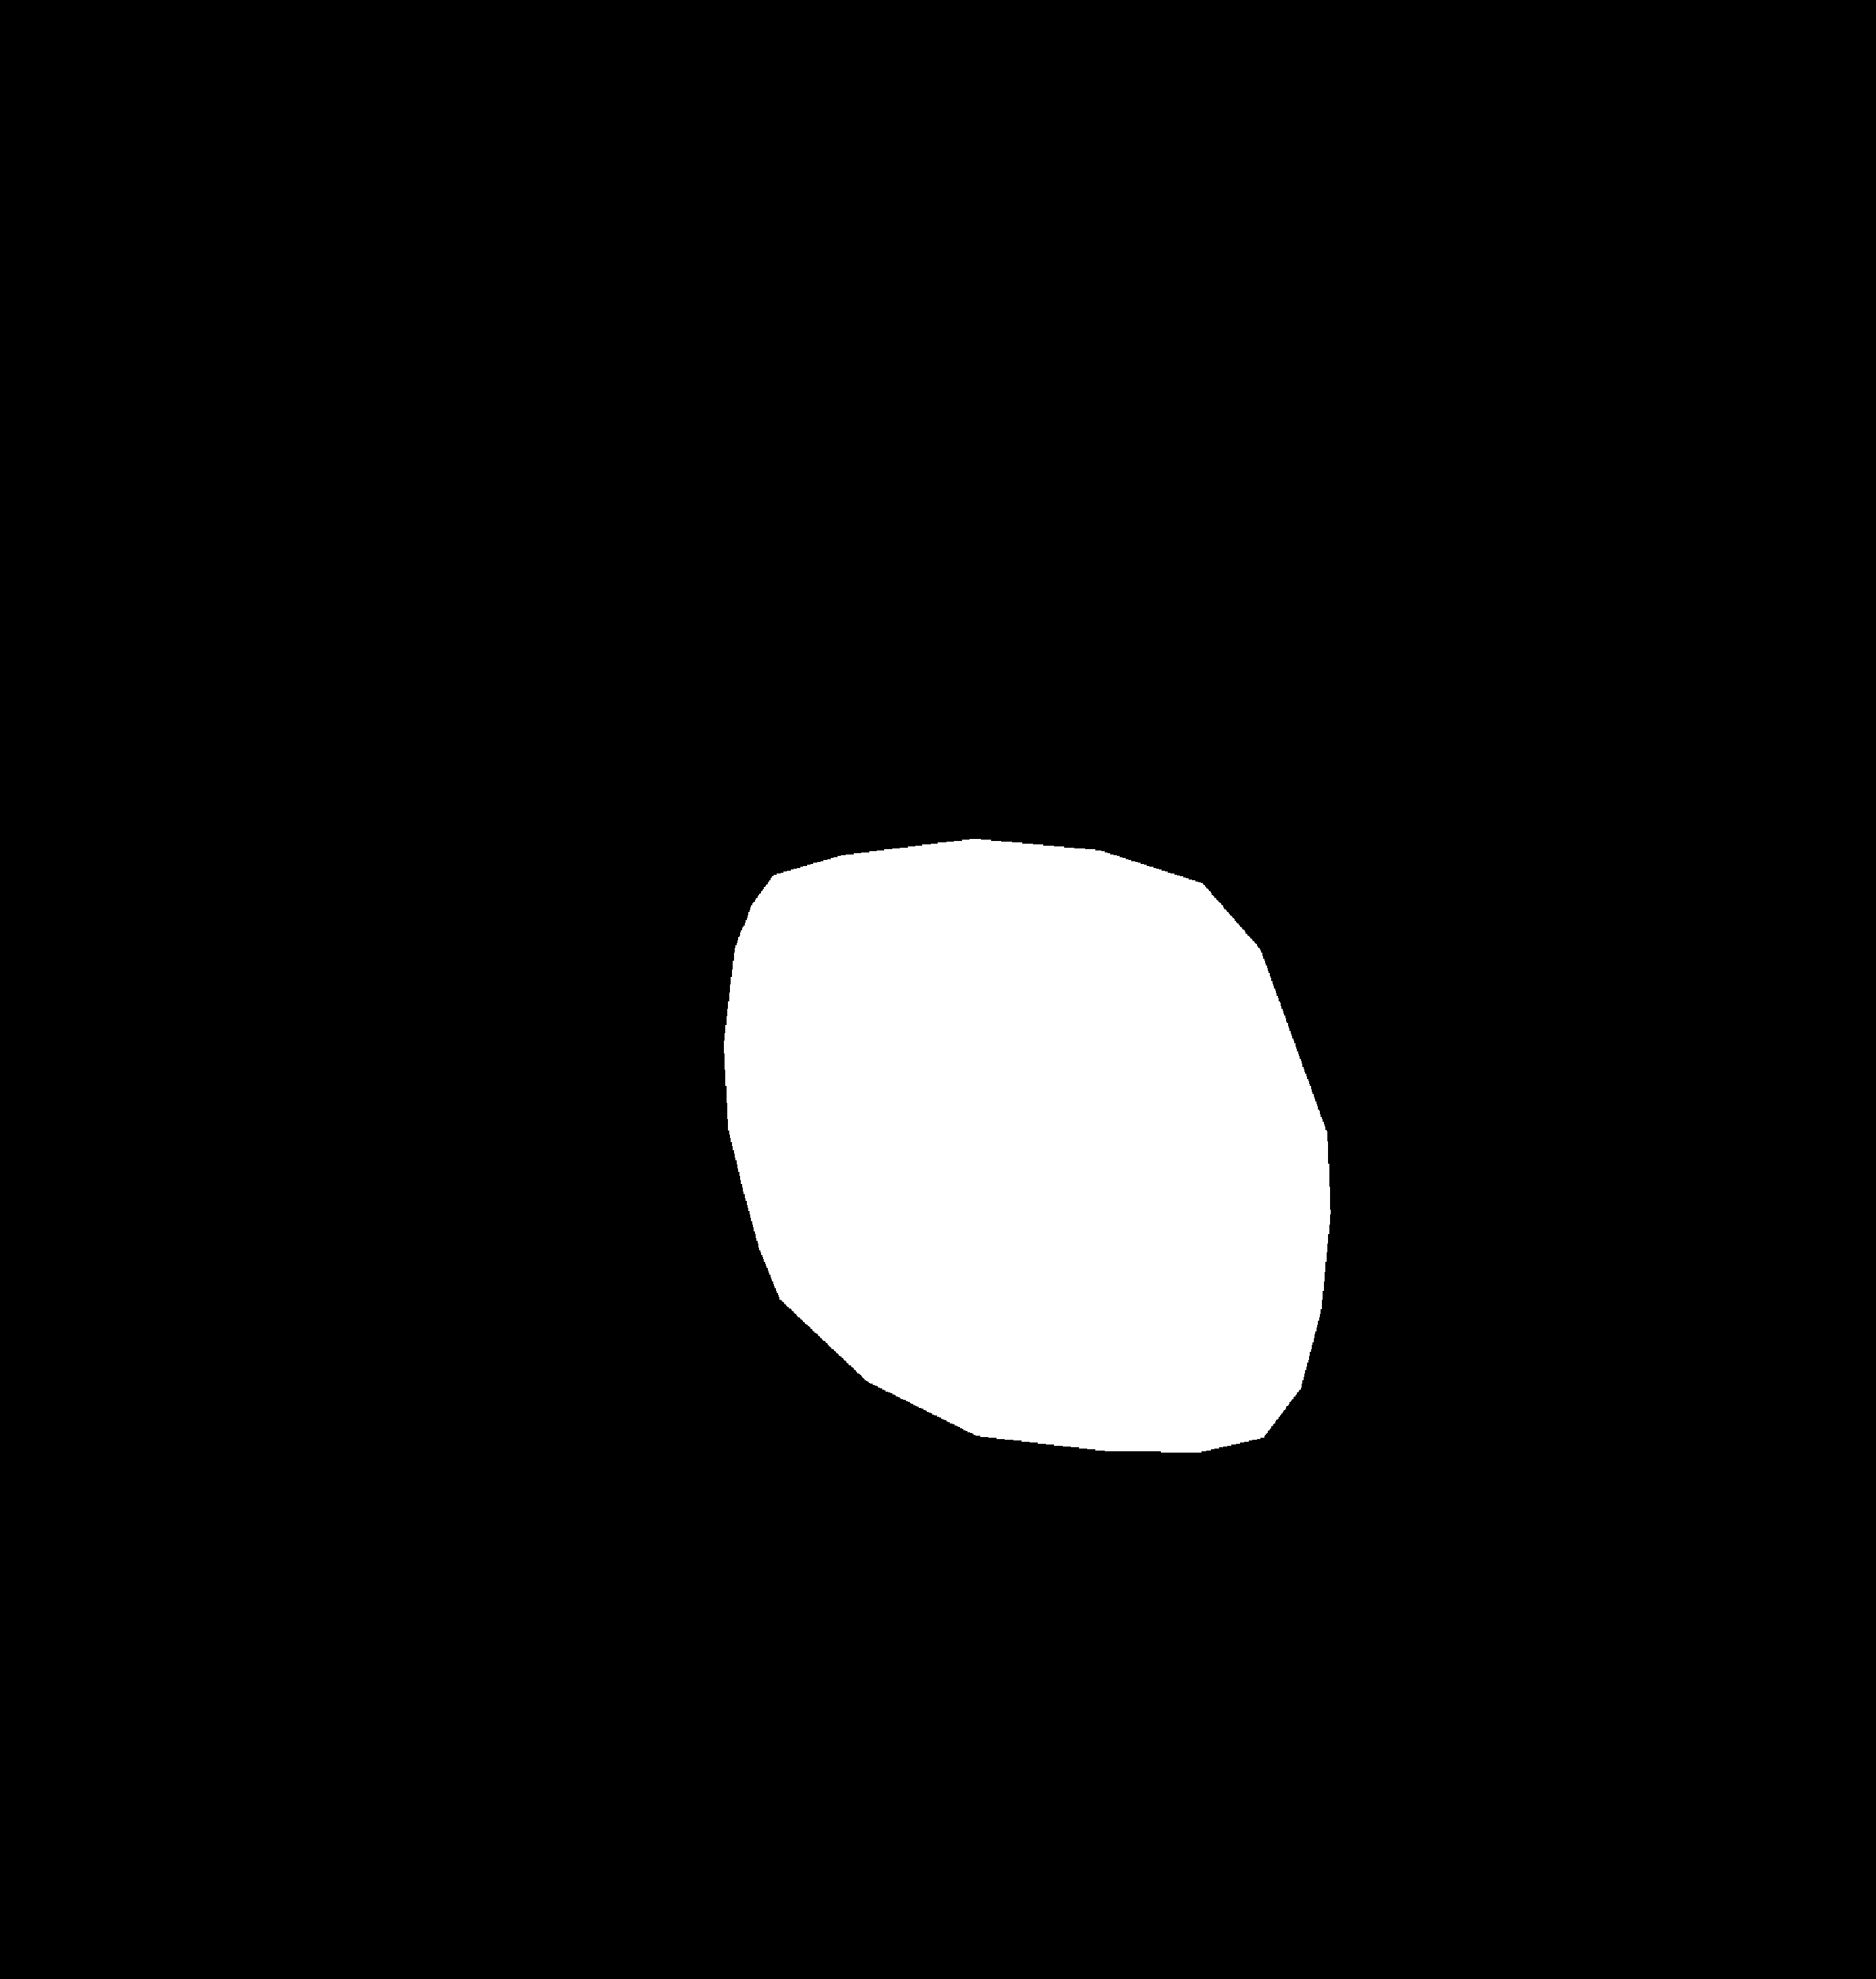heart: (725, 850, 1326, 1520)
left_lung: (210, 284, 855, 1639)
right_lung: (1017, 273, 1687, 1716)
